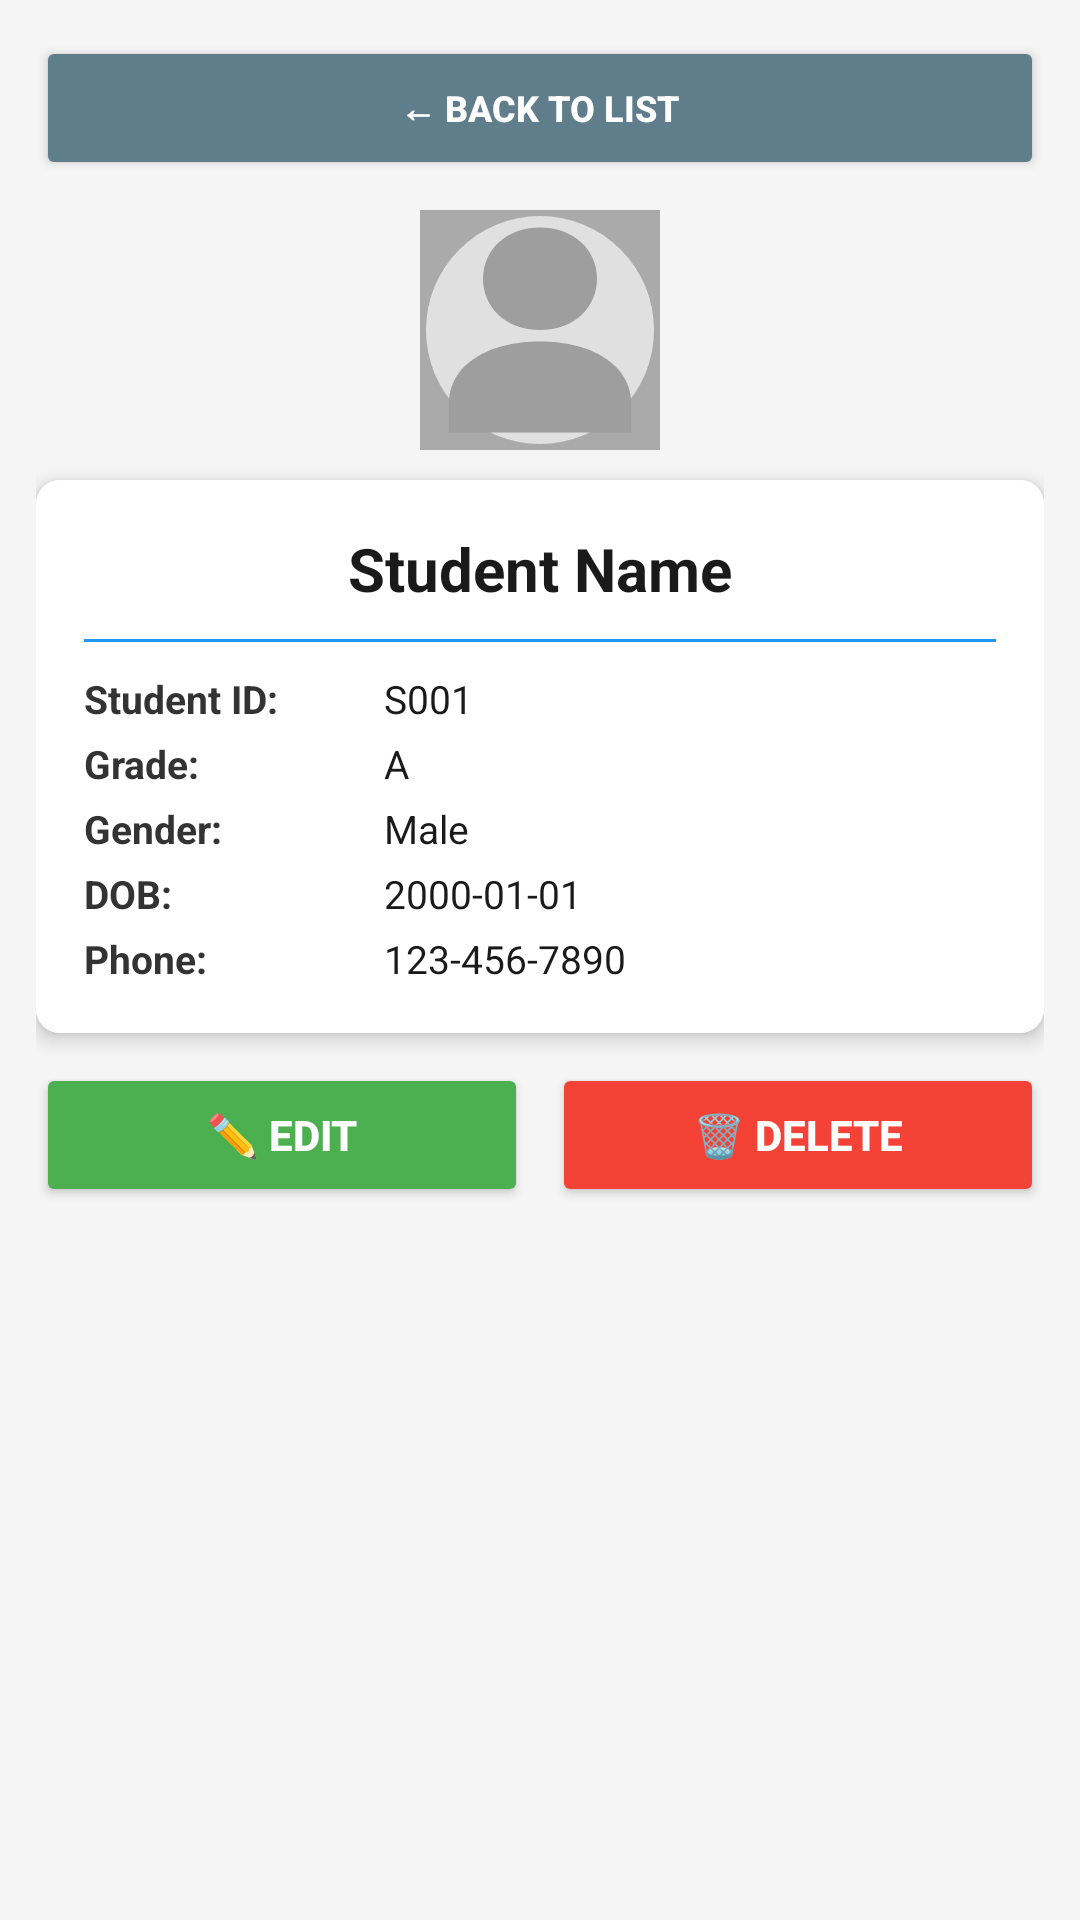

Icons on this 1080w x 1920h Android screen, each with its box as (left=x1, top=y1, right=x2, bottom=y2):
profile: (left=420, top=210, right=660, bottom=450)
